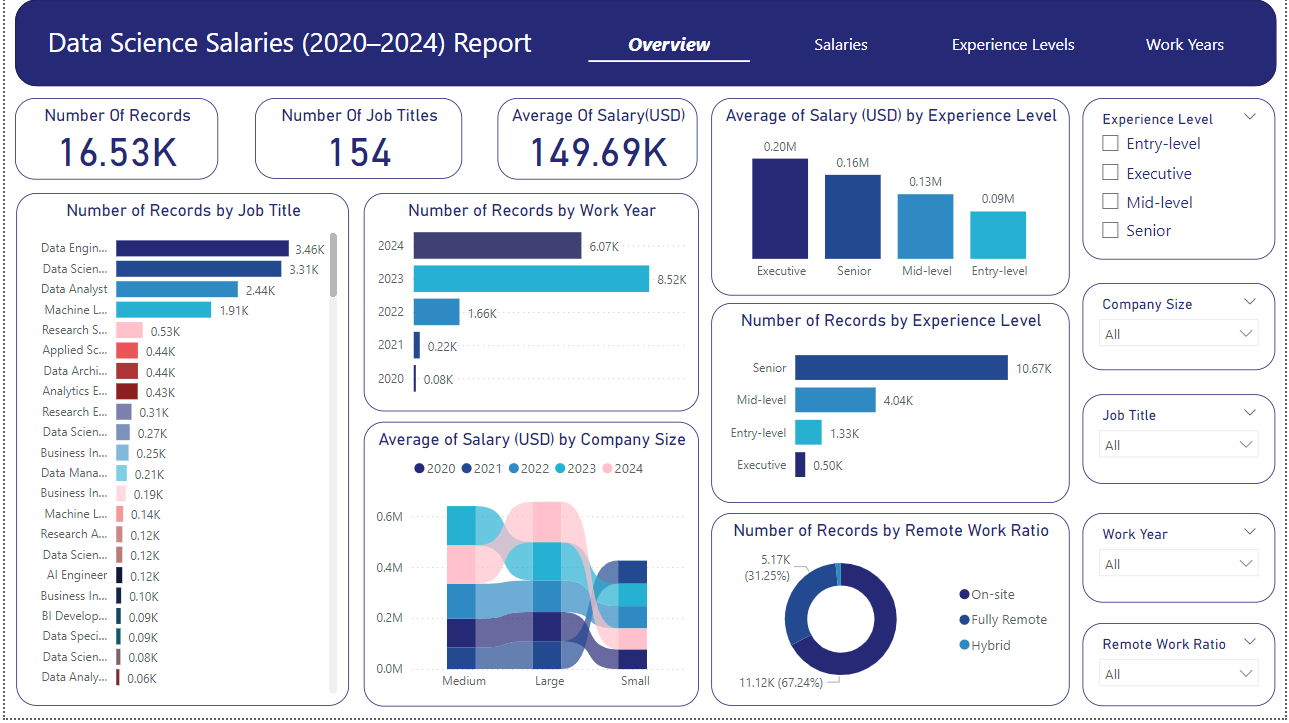

What the dashboard file says about the page in this screenshot:
{"tool":"powerbi","page":{"name":"Overview","canvas":[1280,720],"ordinal":0},"visuals":[{"type":"shape","box":[10.5,1.2,1261.6,87.2],"z":0},{"type":"textbox","box":[30.2,20.5,509.1,45.8],"z":1000},{"type":"donutChart","title":"Number of Records by Remote Work Ratio","fields":{"Category":["Dataset salary 2024.Remote Work Ratio"],"Y":["CountNonNull(Dataset salary 2024.Remote Work Ratio)"]},"box":[705.8,515.1,358.1,193],"z":2000},{"type":"barChart","title":"Number of Records by Experience Level ","fields":{"Category":["Dataset salary 2024.Experience Level"],"Y":["CountNonNull(Dataset salary 2024.Experience Level)"],"Series":["Dataset salary 2024.Experience Level"]},"box":[705.8,304.7,358.1,200],"z":3000},{"type":"barChart","title":"Number of Records by Job Title","fields":{"Category":["Dataset salary 2024.Job Title"],"Series":["Dataset salary 2024.Job Title"],"Y":["CountNonNull(Dataset salary 2024.Salary (USD))"]},"box":[10.9,195.4,333,512.7],"z":4000},{"type":"ribbonChart","title":"Average of Salary (USD) by Company Size","fields":{"Category":["Dataset salary 2024.Company Size"],"Y":["Avg(Dataset salary 2024.Salary (USD))"],"Series":["Dataset salary 2024.Work Year"]},"box":[358.1,423.3,334.9,284.9],"z":5000},{"type":"card","title":"Number Of Records","fields":{"Values":["CountNonNull(Dataset salary 2024.Job Title)"]},"box":[10.5,100,203.5,81.4],"z":6000},{"type":"slicer","fields":{"Values":["Dataset salary 2024.Company Size"]},"box":[1077.4,284.7,193,86.9],"z":7000},{"type":"slicer","fields":{"Values":["Dataset salary 2024.Job Title"]},"box":[1077.4,395.7,193,89.3],"z":8000},{"type":"slicer","fields":{"Values":["Dataset salary 2024.Work Year"]},"box":[1077.4,515.2,193,89.3],"z":9000},{"type":"slicer","fields":{"Values":["Dataset salary 2024.Remote Work Ratio"]},"box":[1077.4,624.9,193,83.2],"z":10000},{"type":"slicer","fields":{"Values":["Dataset salary 2024.Experience Level"]},"box":[1077.4,100.1,193,161.7],"z":11000},{"type":"columnChart","title":"Average of Salary (USD) by Experience Level ","fields":{"Category":["Dataset salary 2024.Experience Level"],"Y":["Avg(Dataset salary 2024.Salary (USD))"],"Series":["Dataset salary 2024.Experience Level"]},"box":[705.8,100.1,358.3,197.9],"z":12000},{"type":"card","title":"Number Of Job Titles","fields":{"Values":["Count(Dataset salary 2024.Job Title)"]},"box":[249.7,100.1,207.5,80.8],"z":13000},{"type":"card","title":"Average Of Salary(USD)","fields":{"Values":["Avg(Dataset salary 2024.Salary (USD))"]},"box":[493,100,200,81.4],"z":14000},{"type":"barChart","title":"Number of Records by Work Year","fields":{"Category":["Dataset salary 2024.Work Year"],"Y":["CountNonNull(Dataset salary 2024.Work Year)"],"Series":["Dataset salary 2024.Work Year"]},"box":[358.1,195.3,334.9,218.6],"z":15000},{"type":"pageNavigator","box":[576.7,20.1,694.8,51.5],"z":16000}]}

Visuals, with their boxes in screenshot pixels (x1, y1, x2, y2), scaled from the page's 1280x720 canvas onto the 1289x723 screenshot:
shape: 11/1/1281/89
textbox: 30/21/543/67
"Number of Records by Remote Work Ratio" donutChart: 711/517/1071/711
"Number of Records by Experience Level " barChart: 711/306/1071/507
"Number of Records by Job Title" barChart: 11/196/346/711
"Average of Salary (USD) by Company Size" ribbonChart: 361/425/698/711
"Number Of Records" card: 11/100/216/182
slicer - Dataset salary 2024.Company Size: 1085/286/1279/373
slicer - Dataset salary 2024.Job Title: 1085/397/1279/487
slicer - Dataset salary 2024.Work Year: 1085/517/1279/607
slicer - Dataset salary 2024.Remote Work Ratio: 1085/628/1279/711
slicer - Dataset salary 2024.Experience Level: 1085/101/1279/263
"Average of Salary (USD) by Experience Level " columnChart: 711/101/1072/299
"Number Of Job Titles" card: 251/101/460/182
"Average Of Salary(USD)" card: 496/100/698/182
"Number of Records by Work Year" barChart: 361/196/698/416
pageNavigator: 581/20/1280/72
